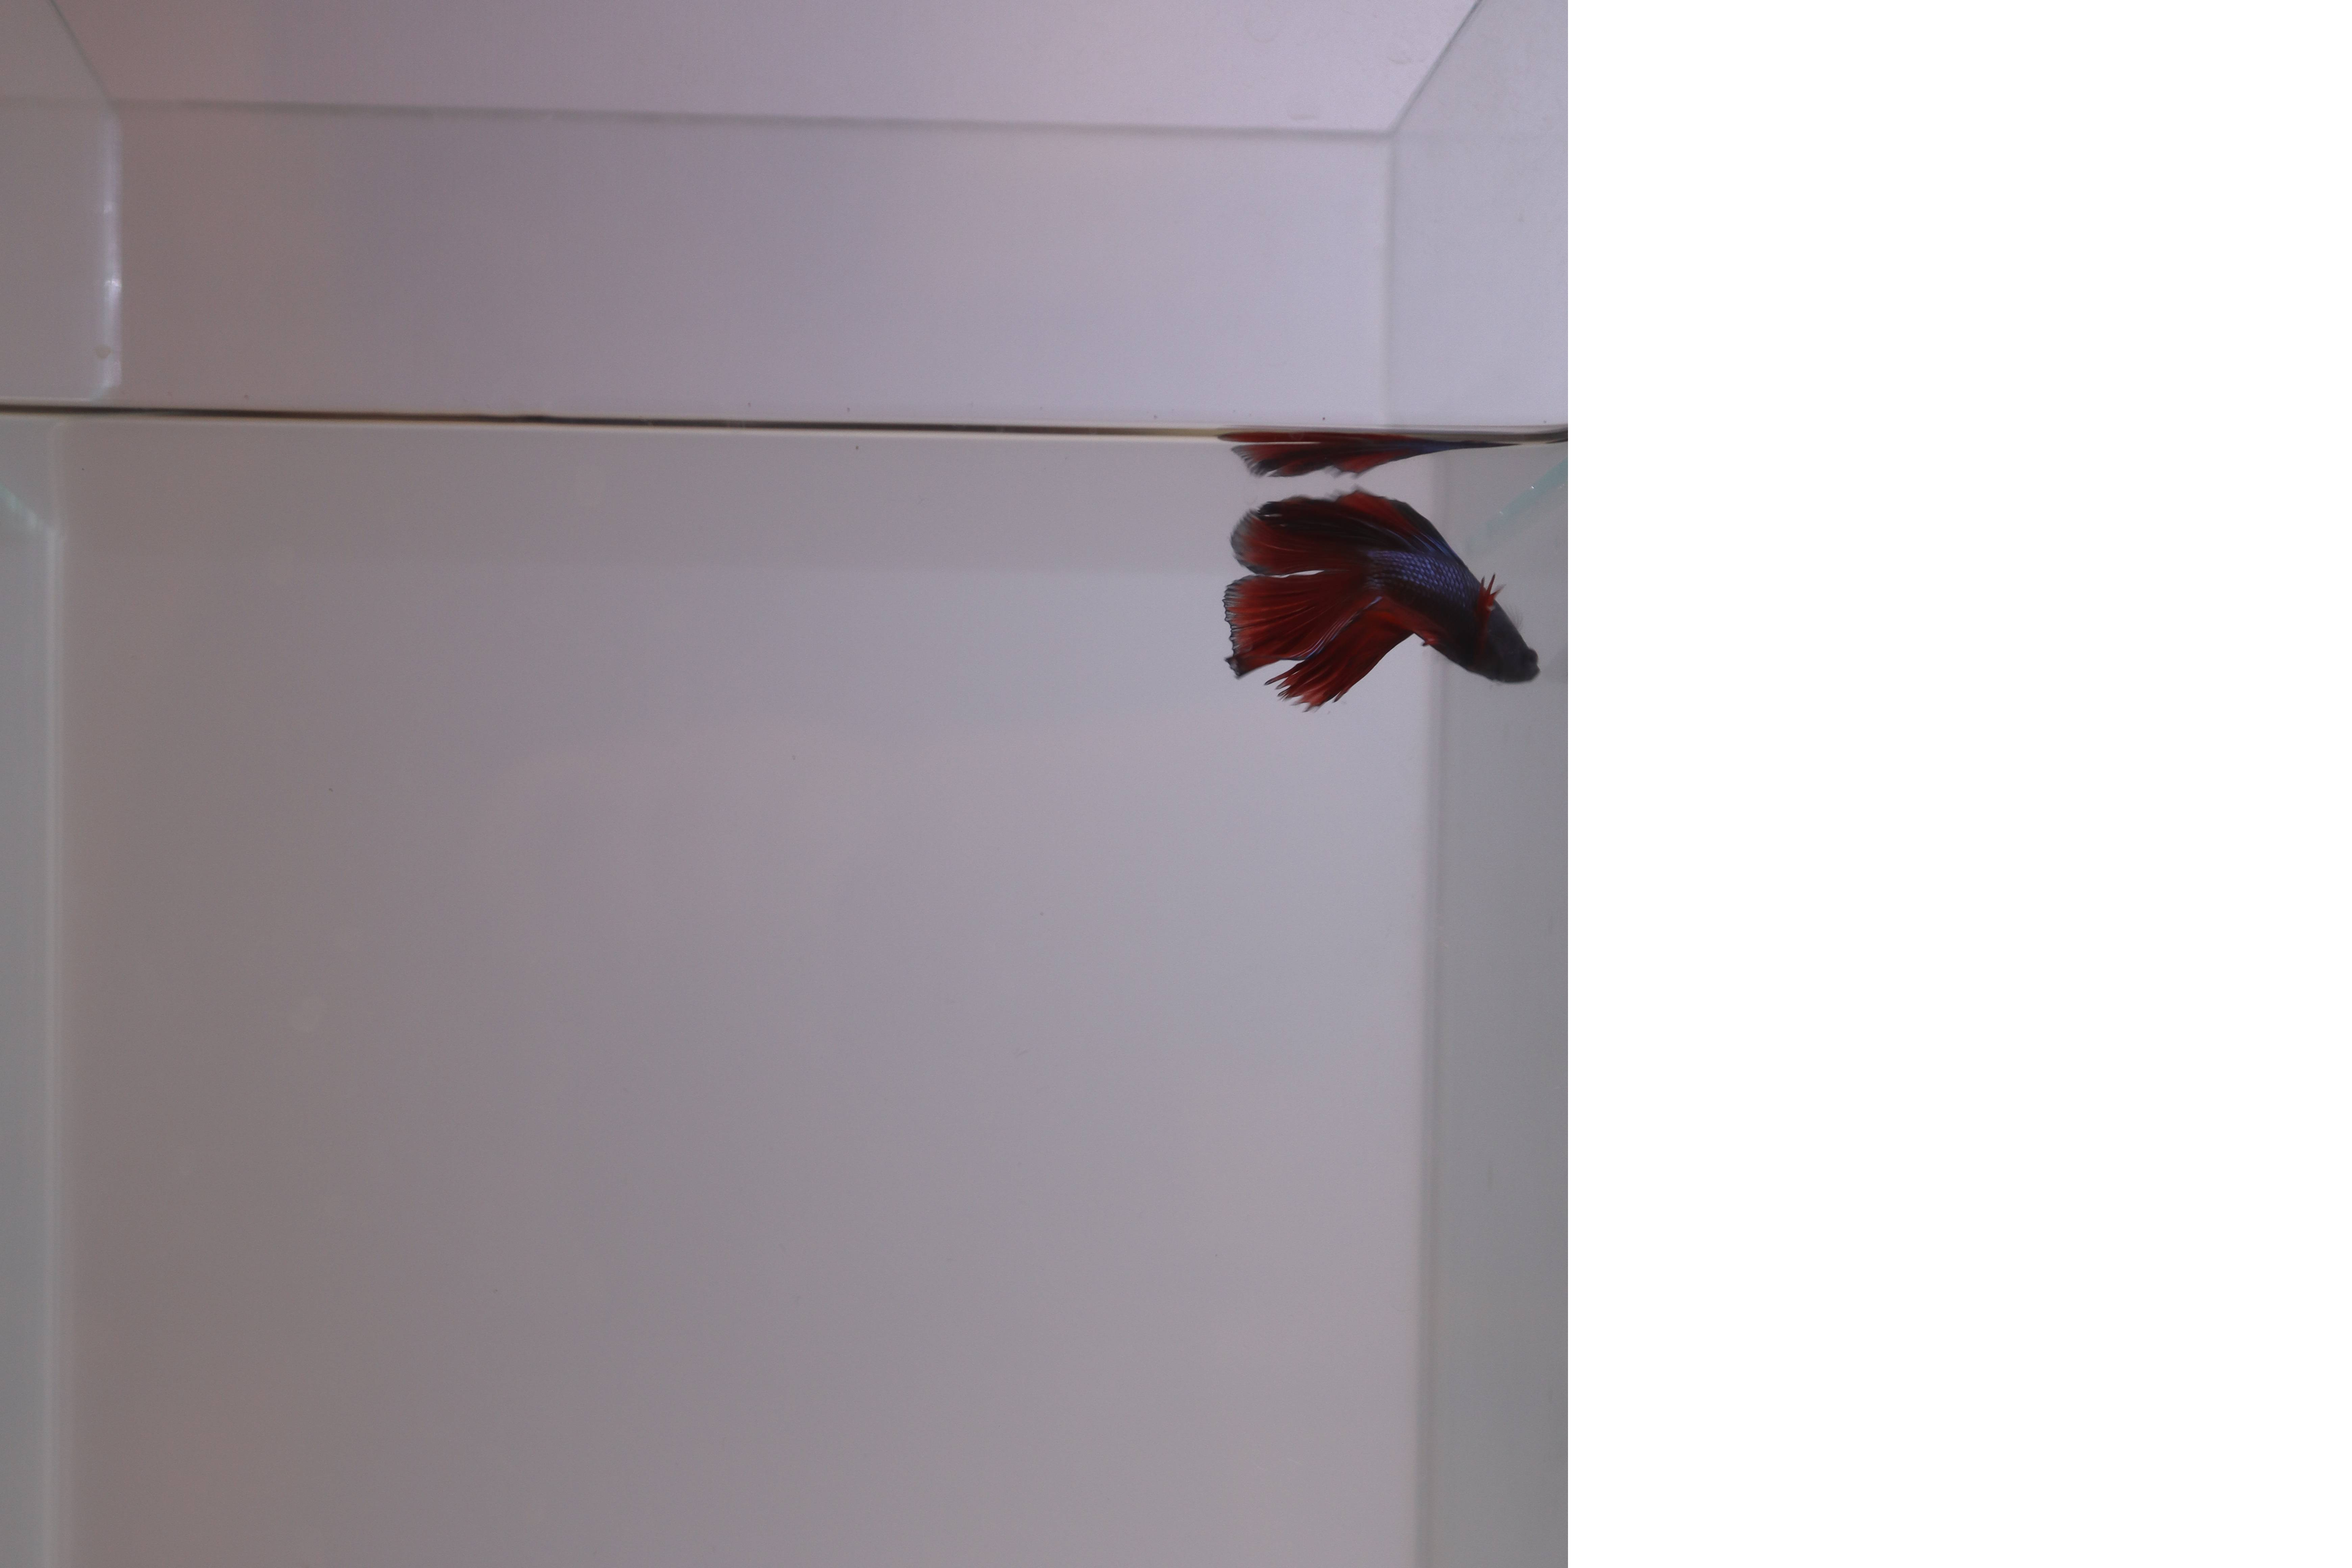fish: (1213, 486, 1545, 737)
